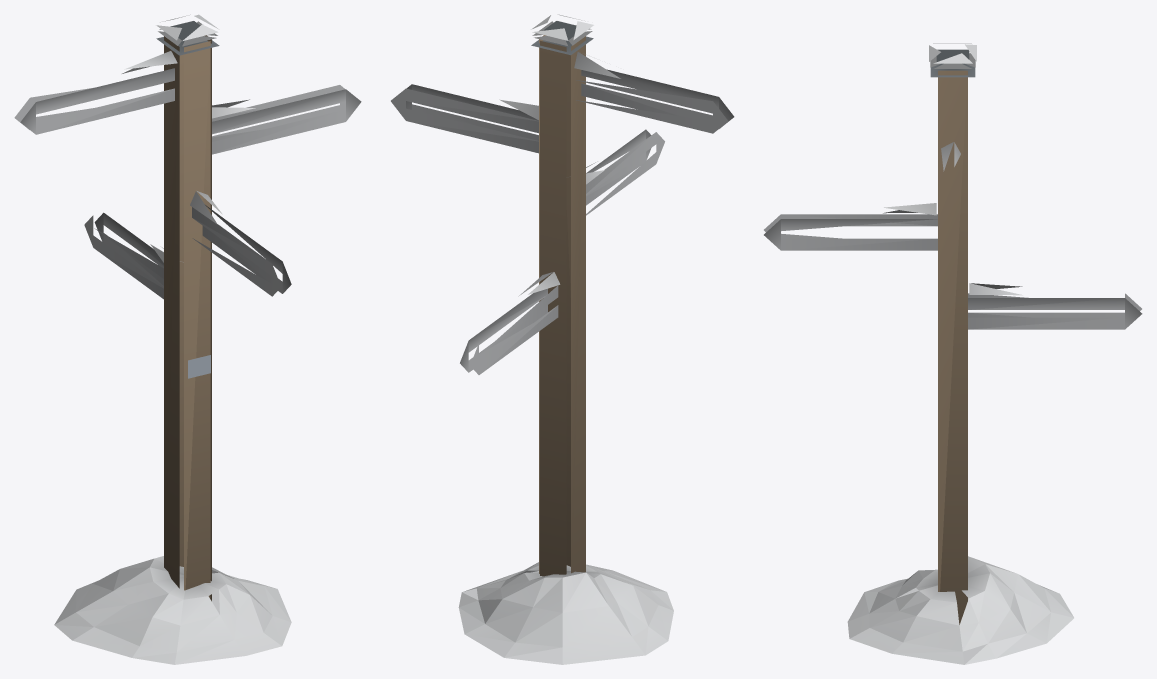
Rendered from finger.lod.glb.
The picture shows the model from 3 angles, left to right: view 1: azimuth 30°, elevation 25°; view 2: azimuth 150°, elevation 25°; view 3: azimuth 270°, elevation 25°; orthographic projection. The views are drawn at different scales.
Visible parts, largest first — view 1: finger; view 2: finger; view 3: finger.
Boxes of the visible parts, left/top/right/bottom form: finger: left=14, top=14, right=361, bottom=664; finger: left=391, top=14, right=734, bottom=664; finger: left=764, top=43, right=1142, bottom=664.
Bounding box in the file's own units: 1.48 × 2.46 × 1.48.
